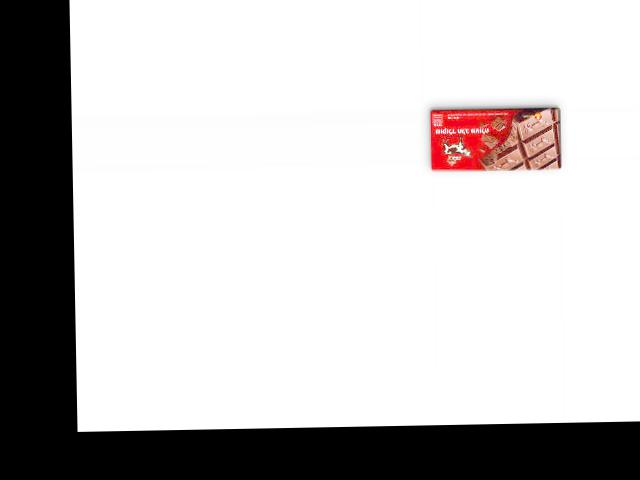chocolate: (426, 102, 564, 174)
